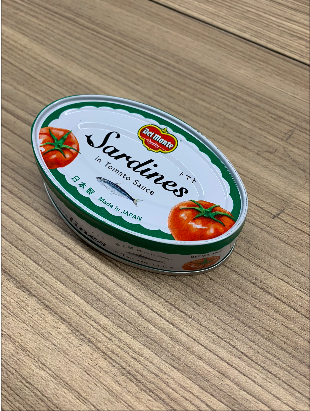Sardines_100-199g: (60, 117, 216, 250)
